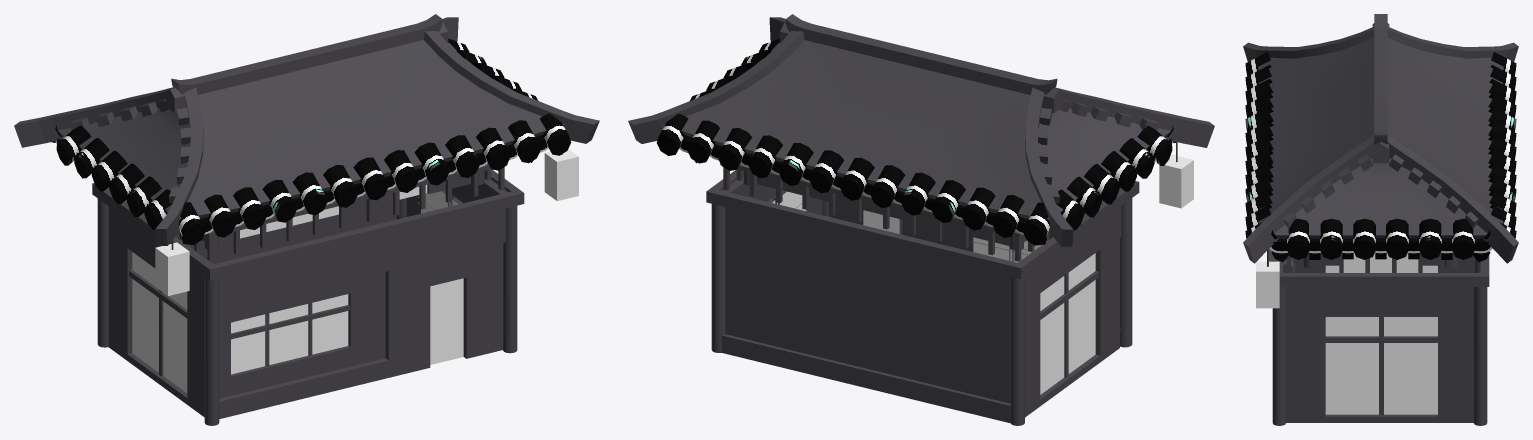
File: testhouse.fbx
3 renders of one model, left to right at view 1: azimuth 30°, elevation 25°; view 2: azimuth 150°, elevation 25°; view 3: azimuth 270°, elevation 25°, orthographic. The views are drawn at different scales.
Visible parts, largest first — view 1: Box009; view 2: Box009; view 3: Box009.
Part boxes in pixels (x1,y1,x2,y2): Box009: [14, 14, 599, 425]; Box009: [628, 14, 1214, 425]; Box009: [1243, 14, 1518, 425].
Size of the model in its own units: 711 by 456 by 407.
